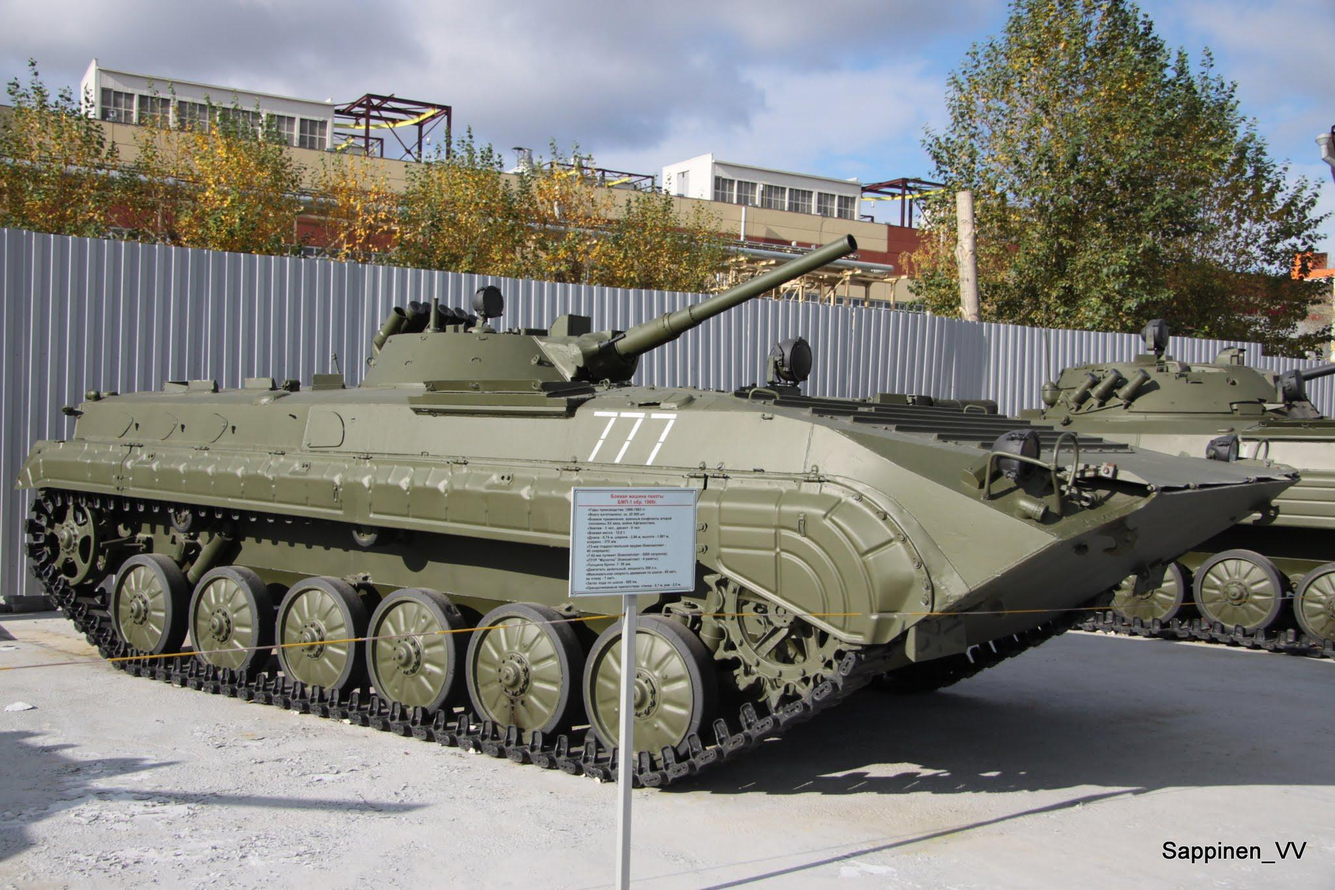tank: (20, 212, 1317, 799), (1014, 322, 1335, 668)
